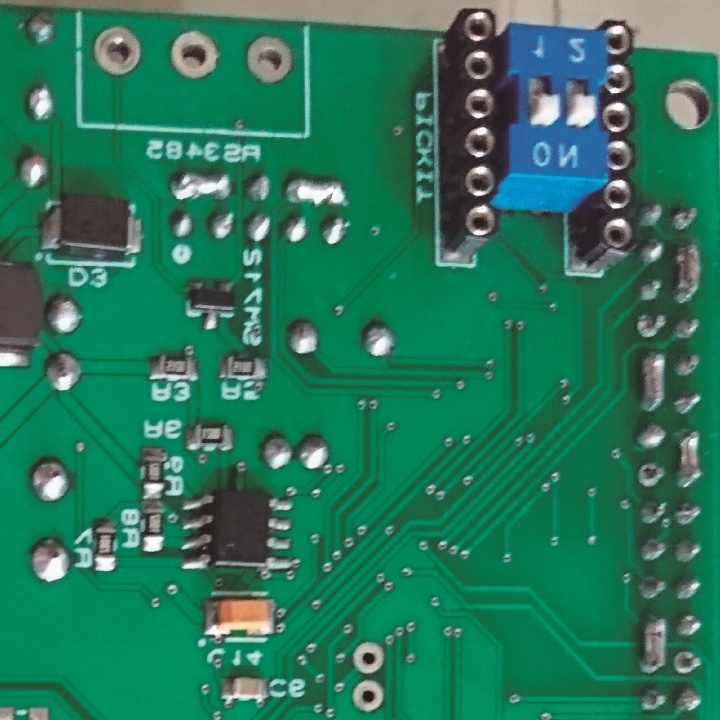F: (244, 31, 297, 88), (168, 26, 219, 83), (92, 24, 143, 80), (349, 680, 387, 715), (350, 640, 382, 677), (674, 648, 702, 678), (638, 310, 666, 338), (639, 460, 663, 492)
P: (281, 172, 349, 209), (168, 169, 238, 201), (639, 610, 667, 678), (673, 239, 700, 304), (638, 348, 665, 413), (676, 425, 701, 489)
